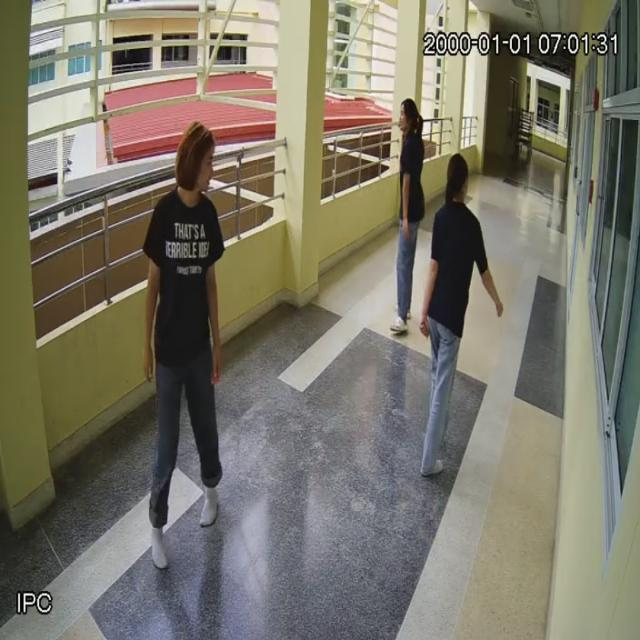normal: (150, 116, 224, 565), (421, 152, 490, 483), (393, 100, 426, 334)
